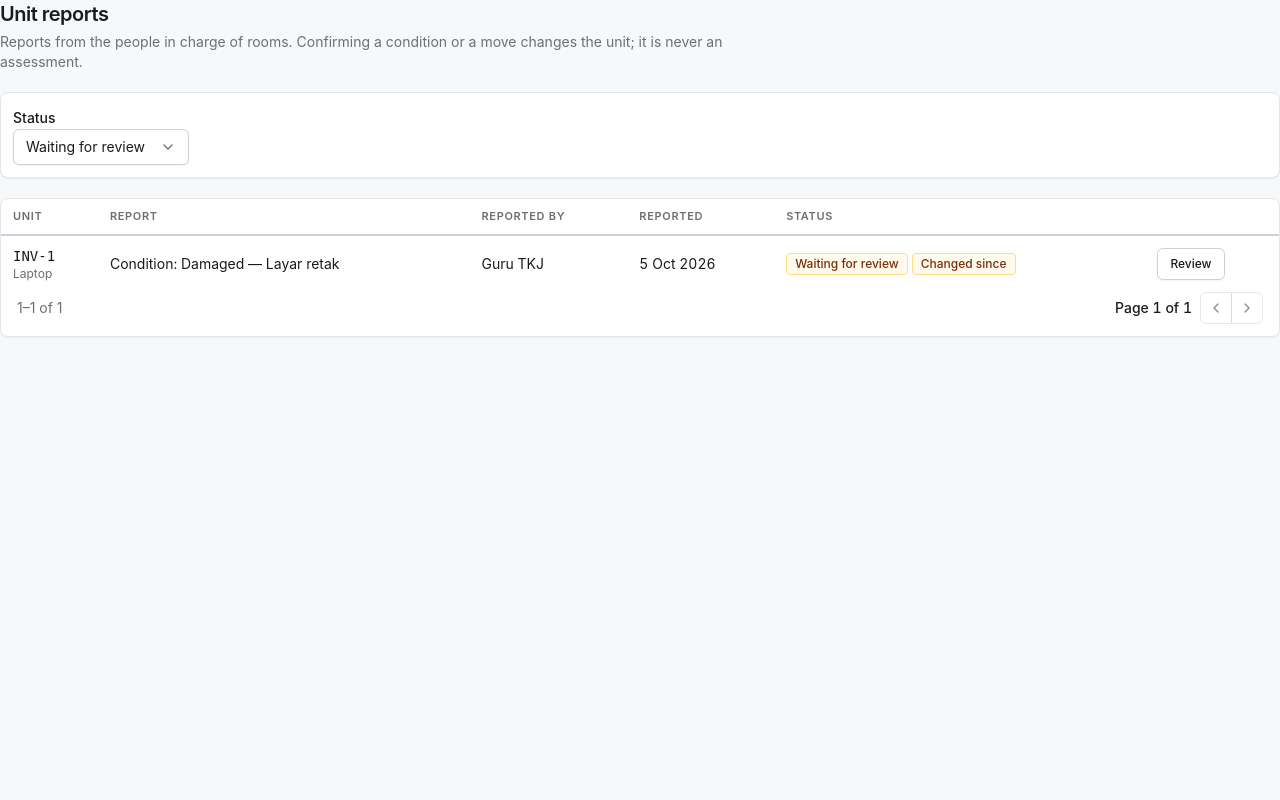
Unit reports — the reviewer › queues what is waiting, and shows the report against the unit now
Click the button "Review".
click(1191, 264)  # box [1157, 248, 1225, 280]
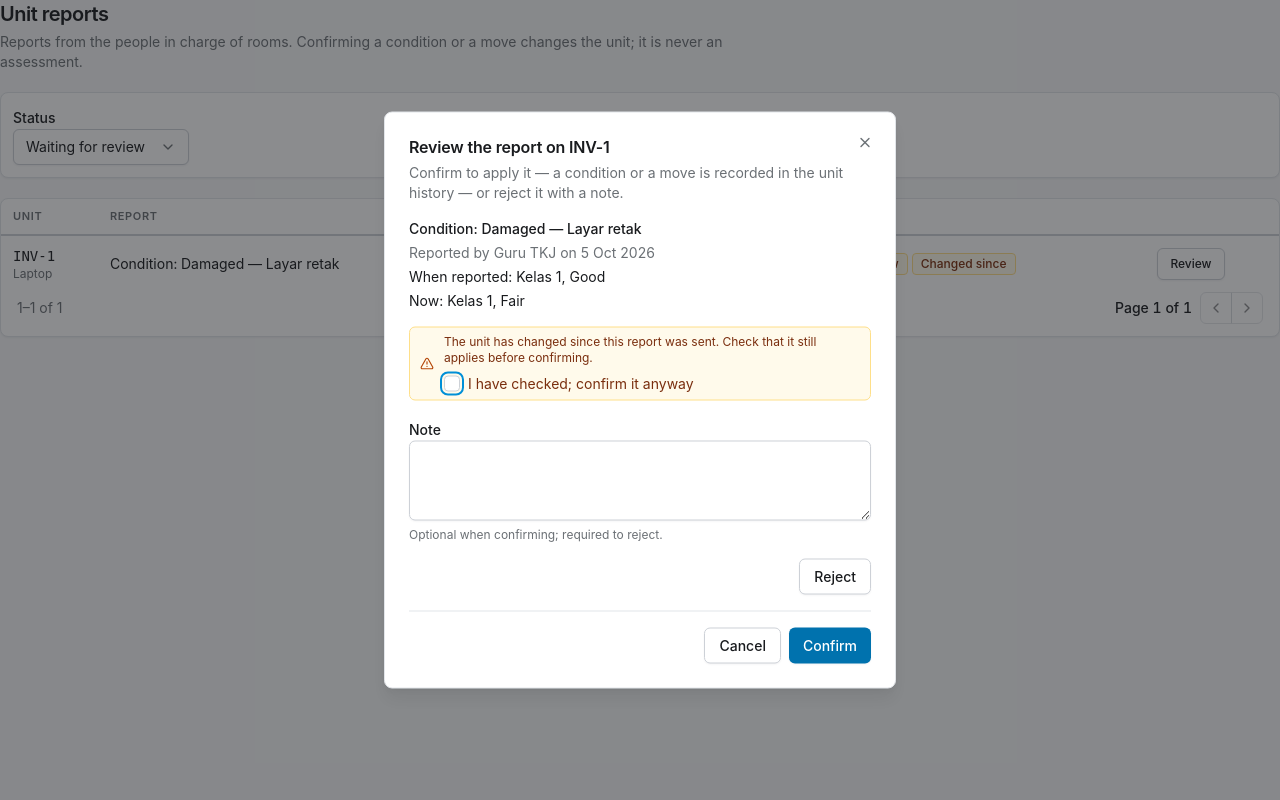
Expected: the element with test id "review-report" shows "Reported by Guru TKJ", [409, 244, 655, 260]
Expected: the element with test id "review-report" shows "When reported: Kelas 1, Good", [409, 220, 655, 308]
Expected: the element with test id "review-report" shows "Now: Kelas 1, Fair", [409, 220, 655, 308]
